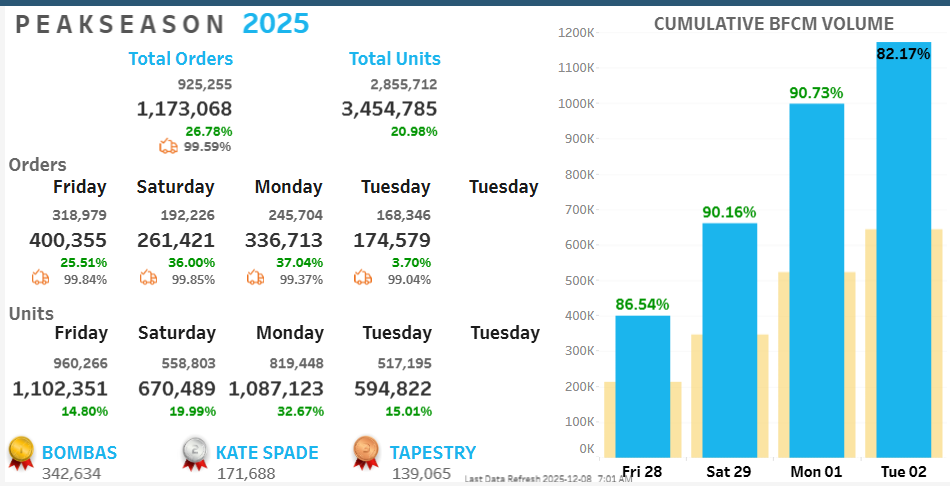

The page's visual inventory and layout, read from the dashboard file:
{"tool":"tableau","page":{"name":"Peak Season","canvas":[1260,635],"ordinal":0},"visuals":[{"type":"blank","box":[0,0,1260,635]},{"type":"blank","box":[0,0,788,635]},{"type":"worksheet","title":"Company","mark":"Automatic","box":[2,1,461,38]},{"type":"text","box":[797,7,458,30]},{"type":"text","box":[127,52,178,33.7]},{"type":"text","box":[357,52,225,33.7]},{"type":"worksheet","title":"TOTAL orders","mark":"Automatic","box":[36,76,275,114]},{"type":"worksheet","title":"TOTAL units","mark":"Automatic","box":[311,76,274,114]},{"type":"worksheet","title":"days orders ship TOTAL","mark":"Shape","box":[133,169,171,34]},{"type":"text","box":[5,193.4,661,33.7]},{"type":"text","box":[5,392,661,34]},{"type":"image","param":"Image/medalla bronce.png","box":[457,568.6,47,55.8]},{"type":"image","param":"Image/medalla plata.png","box":[229,569,47,55]}]}

Visuals, with their boxes in screenshot pixels (x1, y1, x2, y2), scaled from the page's 1260x635 canvas onto the 950x486 screenshot:
blank: locate(0, 0, 949, 485)
blank: locate(0, 0, 594, 485)
"Company" worksheet: locate(2, 1, 349, 30)
text: locate(601, 5, 946, 28)
text: locate(96, 40, 230, 66)
text: locate(269, 40, 439, 66)
"TOTAL orders" worksheet: locate(27, 58, 234, 145)
"TOTAL units" worksheet: locate(234, 58, 441, 145)
"days orders ship TOTAL" worksheet (Shape marks): locate(100, 129, 229, 155)
text: locate(4, 148, 502, 174)
text: locate(4, 300, 502, 326)
image: locate(345, 435, 380, 478)
image: locate(173, 435, 208, 478)
